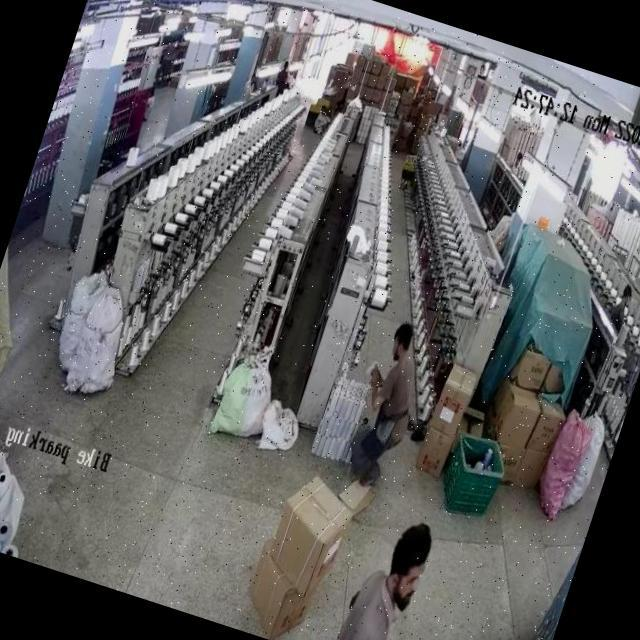person: (349, 316, 438, 481), (327, 507, 436, 640), (602, 283, 638, 334), (270, 56, 294, 95)
